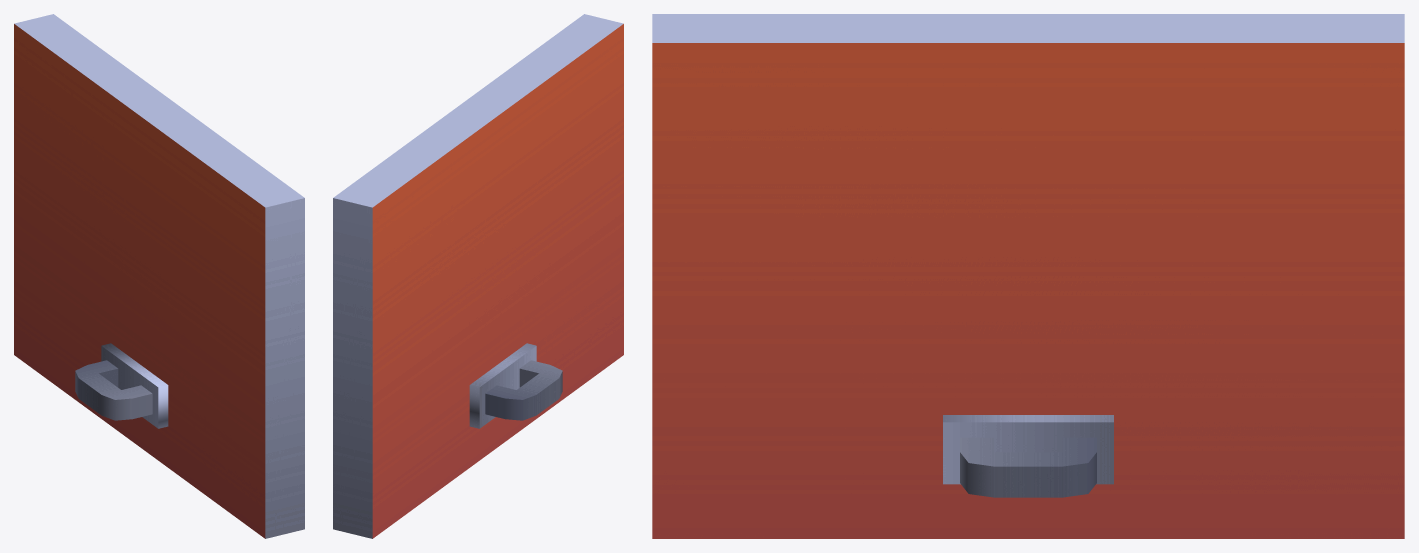
Rendered from door-garage.glb.
3 renders of one model, left to right at view 1: azimuth 30°, elevation 25°; view 2: azimuth 150°, elevation 25°; view 3: azimuth 270°, elevation 25°, orthographic. The views are drawn at different scales.
Parts seen in each view (by area): view 1: door-col; view 2: door-col; view 3: door-col.
Part boxes in pixels (bbox=[...]): door-col: bbox=[14, 14, 304, 538]; door-col: bbox=[333, 14, 623, 538]; door-col: bbox=[652, 14, 1404, 538].
Size of the model in its own units: 0.35 by 0.8 by 1.1.
Materials: 1 (1 with a texture image).
